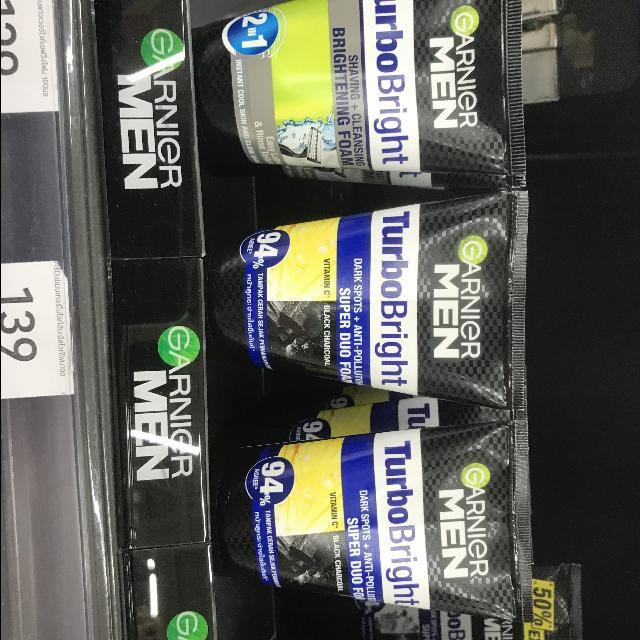Squeeze Tube: (201, 194, 527, 413), (207, 421, 540, 623), (173, 2, 532, 179)
